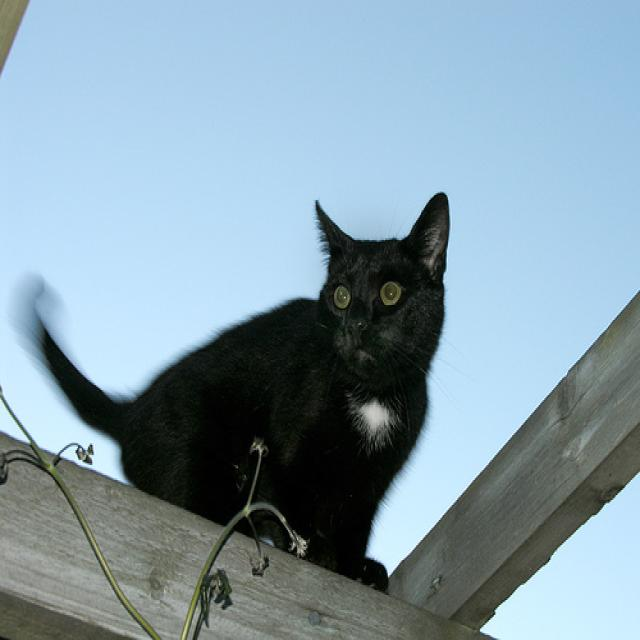cat: (14, 191, 452, 594)
